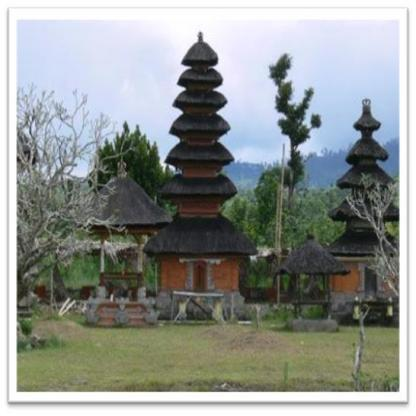Building Outline: (142, 32, 258, 320)
Door: (193, 261, 207, 294)
Facade: (161, 232, 239, 320)
Floor Slab: (160, 294, 240, 298)
Ground Floor: (161, 252, 239, 294)
Roof: (142, 216, 259, 258), (159, 173, 238, 199), (164, 142, 235, 163), (180, 32, 219, 66), (168, 114, 232, 134), (170, 90, 228, 106), (177, 68, 223, 85)
